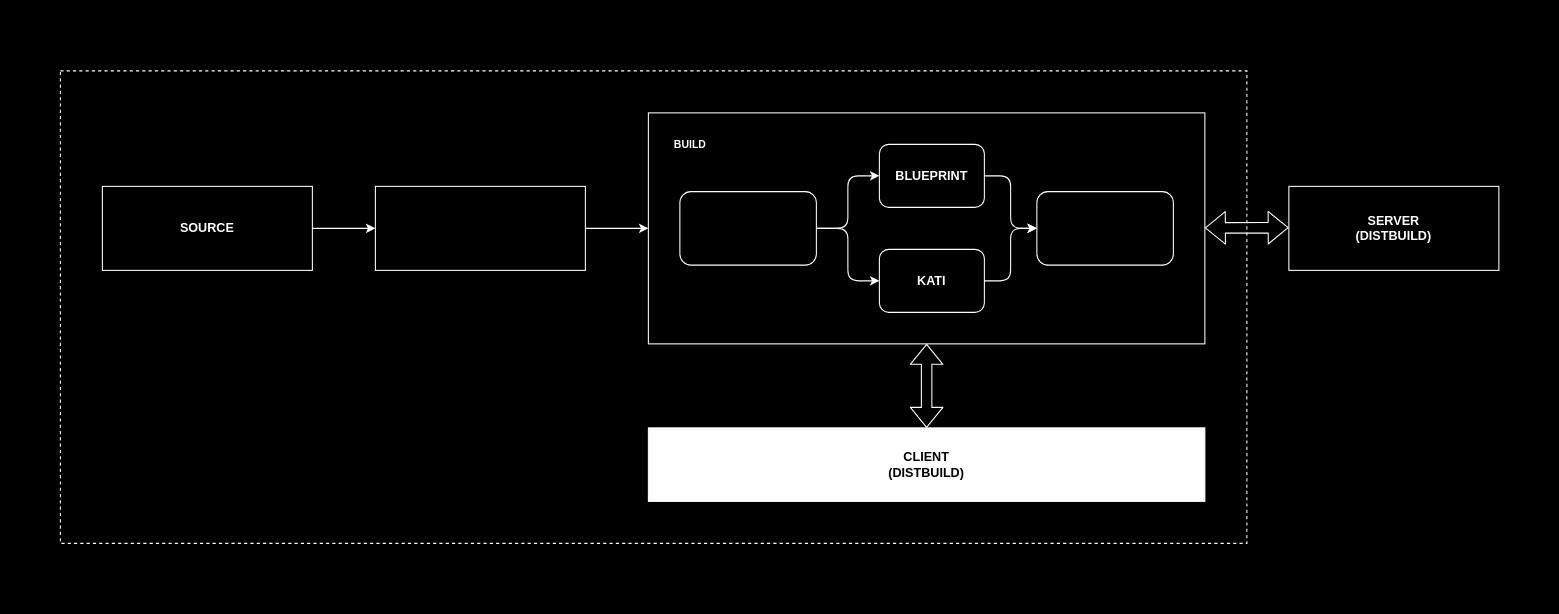
Some shapes in this 1559 by 614 pixel diagram are drawn without their labels. Here are the shapes that lost their labels. From the top down, the centre of each, then its label:
At [479,227]: "Android.bp/.mk".
At [747,228]: "SOONG".
At [1104,228]: "NINJA (.ninja)".
